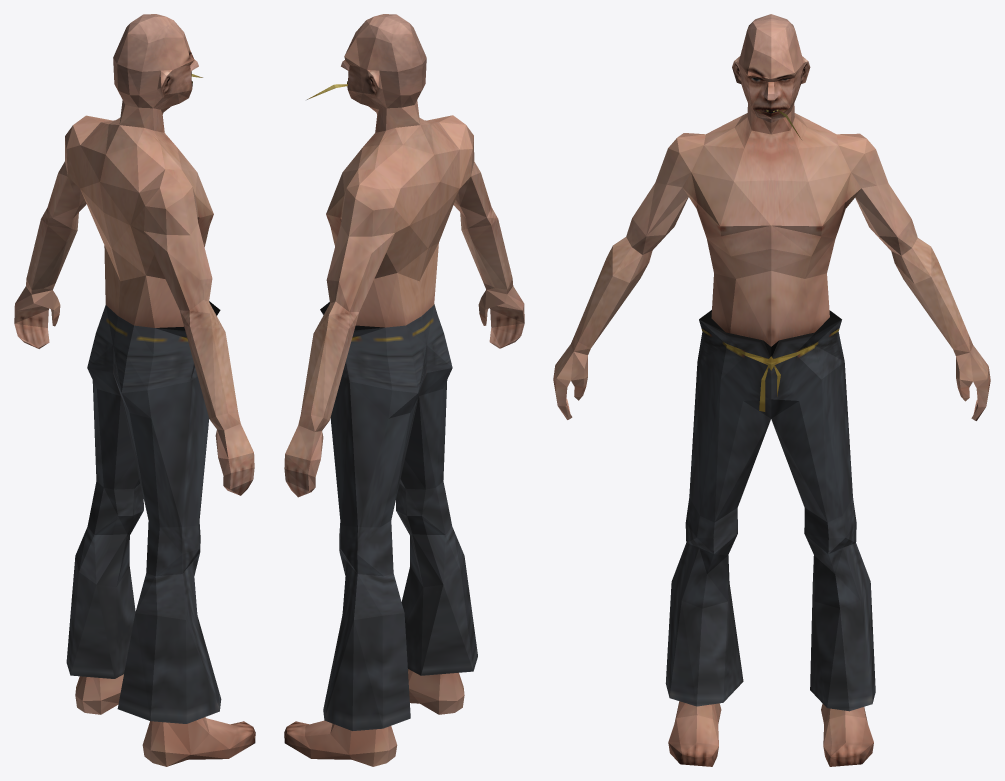
File: cwmyhb1.obj
3 renders of one model, left to right at view 1: azimuth 30°, elevation 25°; view 2: azimuth 150°, elevation 25°; view 3: azimuth 270°, elevation 25°, orthographic.
Visible parts, largest first — view 1: _Pelvis; view 2: _Pelvis; view 3: _Pelvis.
Boxes of the visible parts, box(x1,y1,x2,y2) form: _Pelvis: box(14, 14, 255, 766); _Pelvis: box(284, 14, 524, 766); _Pelvis: box(553, 14, 990, 766).
Size of the model in its own units: 0.3463 by 1.85 by 1.01.
Materials: 1 (1 with a texture image).
